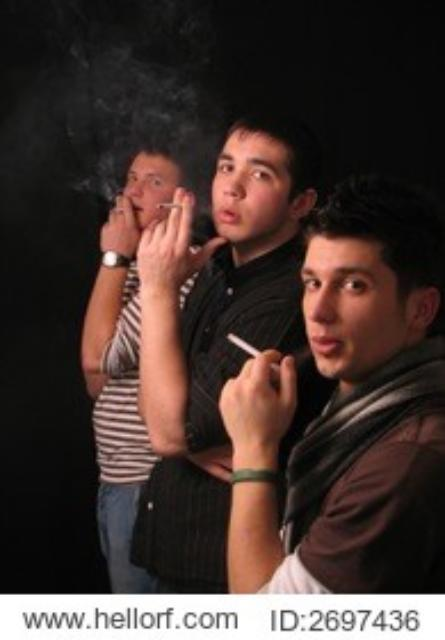SafeDriving: (338, 271, 372, 297), (300, 268, 327, 294), (246, 162, 274, 186), (216, 154, 238, 178)
Smoking: (219, 326, 307, 386), (147, 192, 210, 214), (98, 197, 140, 220)
